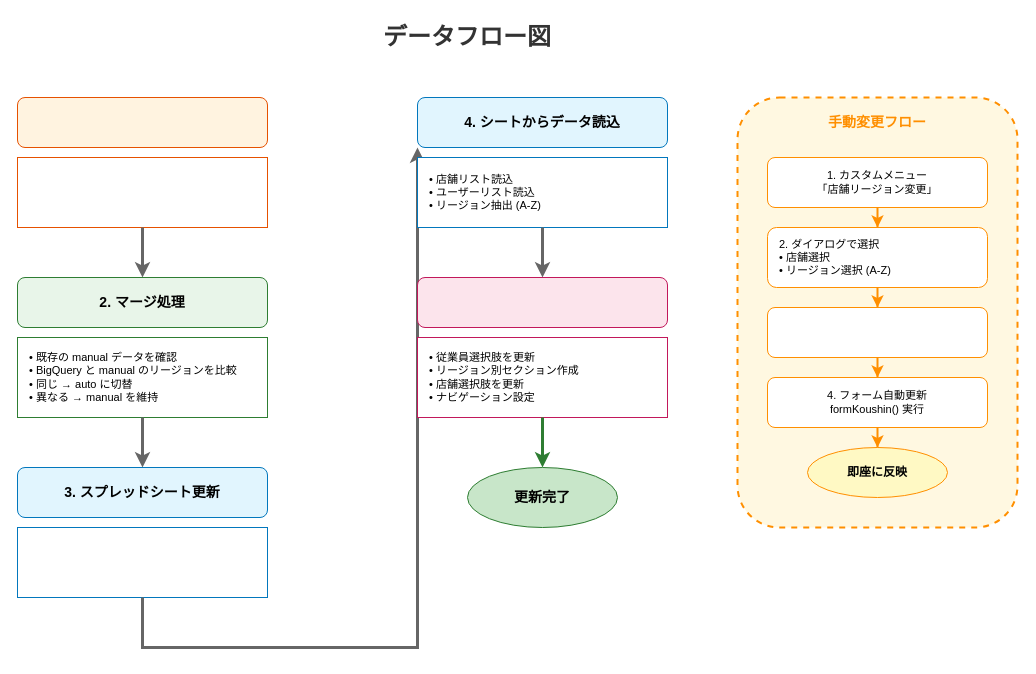
Image size: 1036x674. Some labels were removed from this diagram. Each missing label, with the centre of its shape:
"1. BigQuery からデータ取得" belongs at point (142, 122).
"3. リージョン変更 ソース列を manual に" belongs at point (877, 332).
"5. フォーム更新" belongs at point (542, 302).
"• 店舗マスター (exment.SHOPS) • 従業員マスター (jinjer.EMPLOYEES) • SQL クエリで必要データを抽出" belongs at point (142, 192).
"• 店舗リストシート更新 • ユーザーリストシート更新 • リージョン別シート作成/更新" belongs at point (142, 562).
